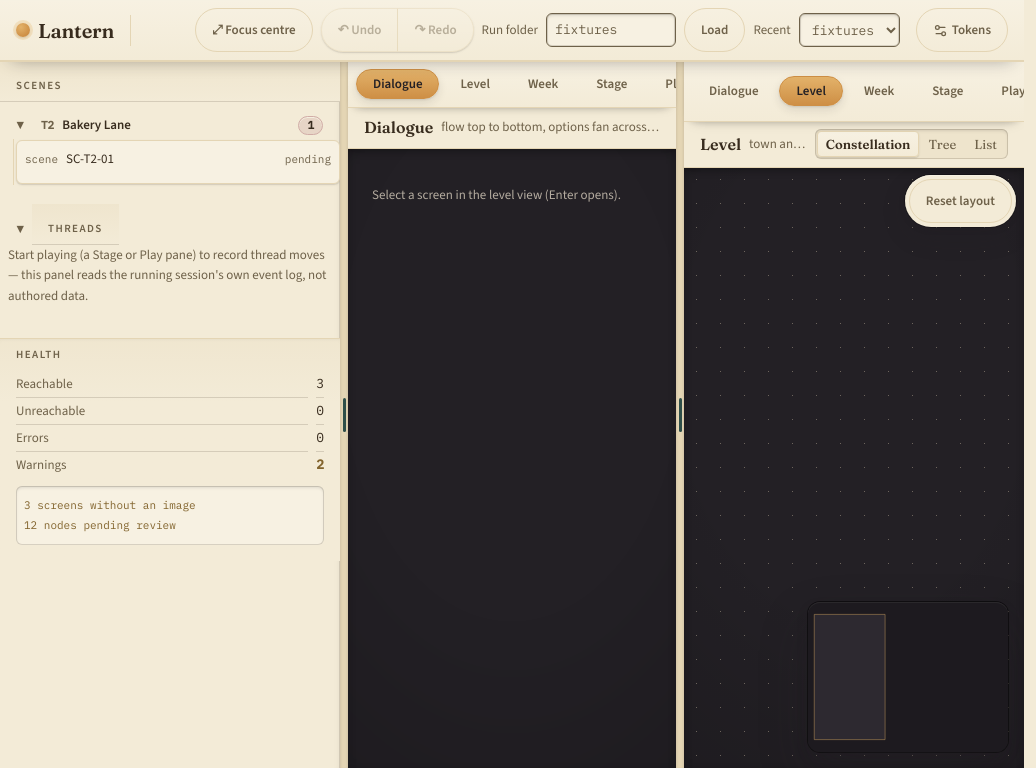
App smoke › lists scenes in the rail and badges the level map, and a rail click opens the tree
This screenshot has width=1036, height=768.
Expected: the text "Bakery Lane" is shown, [62, 116, 131, 133]
# clicking the rail scene opens that scene's tree
Click the button with class "rail-scene" at [42, 159], box [16, 140, 340, 184]
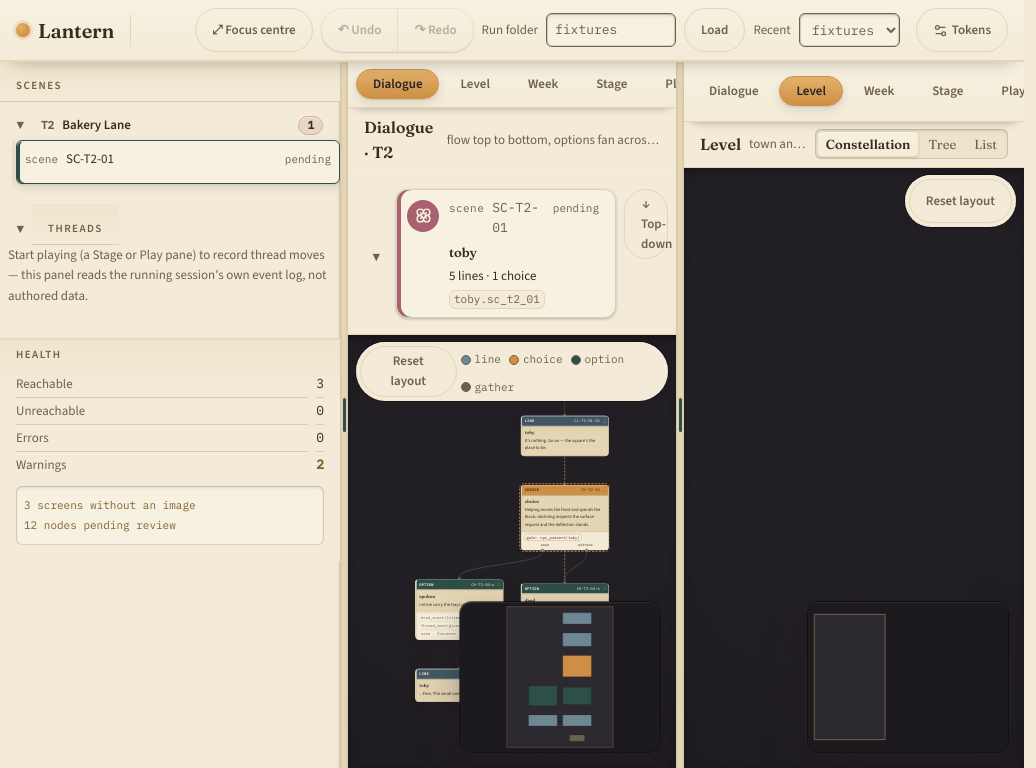
Result: the element showing "scene SC-T2-01 pending toby 5 lines · 1 choice toby.sc_t2_01" is shown at [396, 189, 616, 318]
